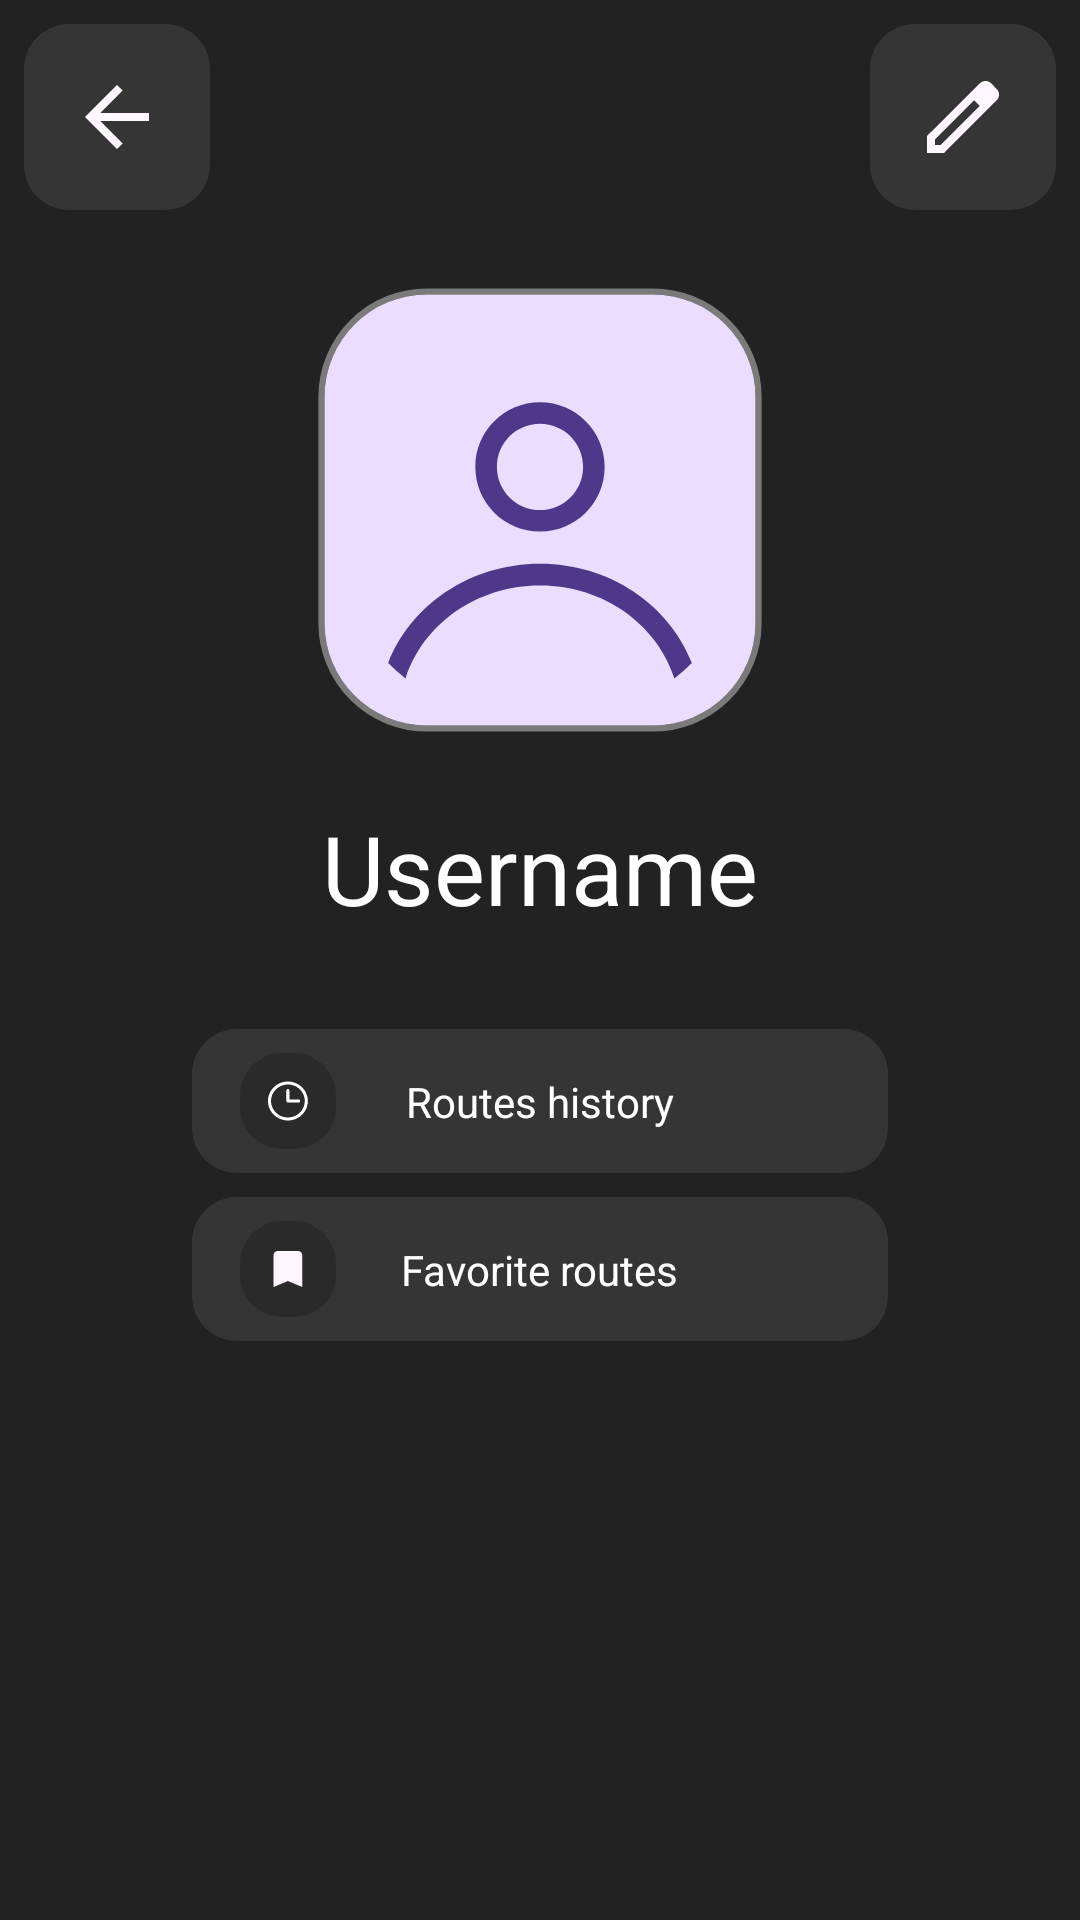

Named icons in this screenshot (1080px×1920px) and their bounding boxes, [x1, y1, x2, y2]:
Button back: [24, 24, 210, 210]
edit: [870, 24, 1056, 210]
